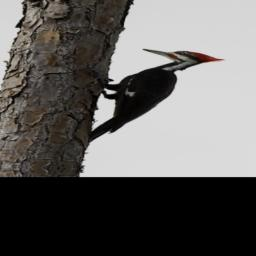Woodpecker: (88, 47, 228, 149)
